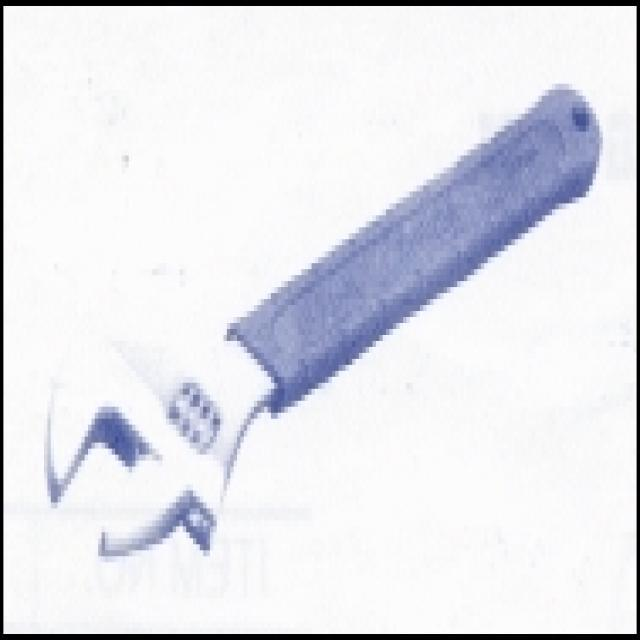wrench: (43, 73, 606, 563)
